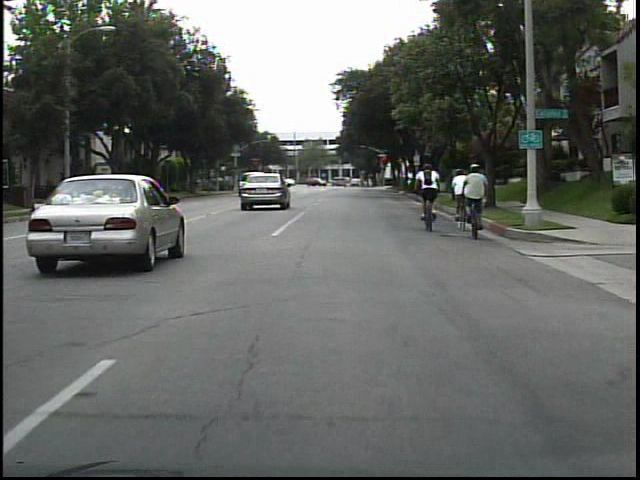person: (464, 158, 495, 239), (415, 160, 446, 232), (451, 165, 475, 232)
